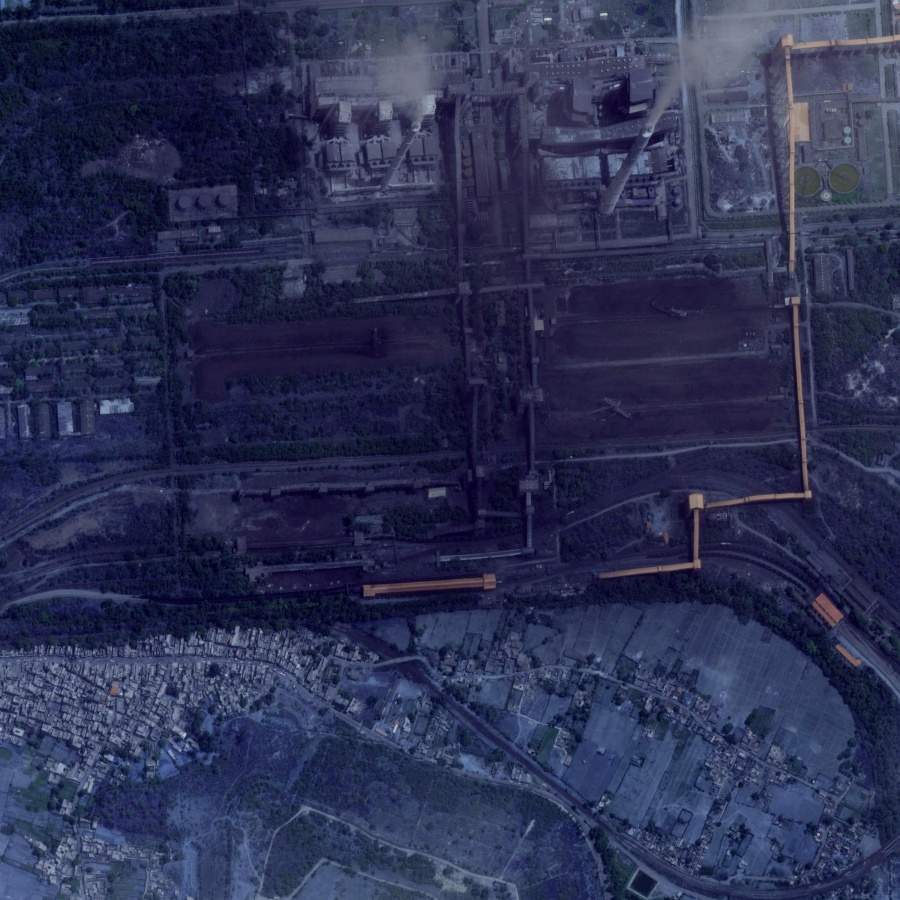PowerPlant: (159, 62, 792, 626)
